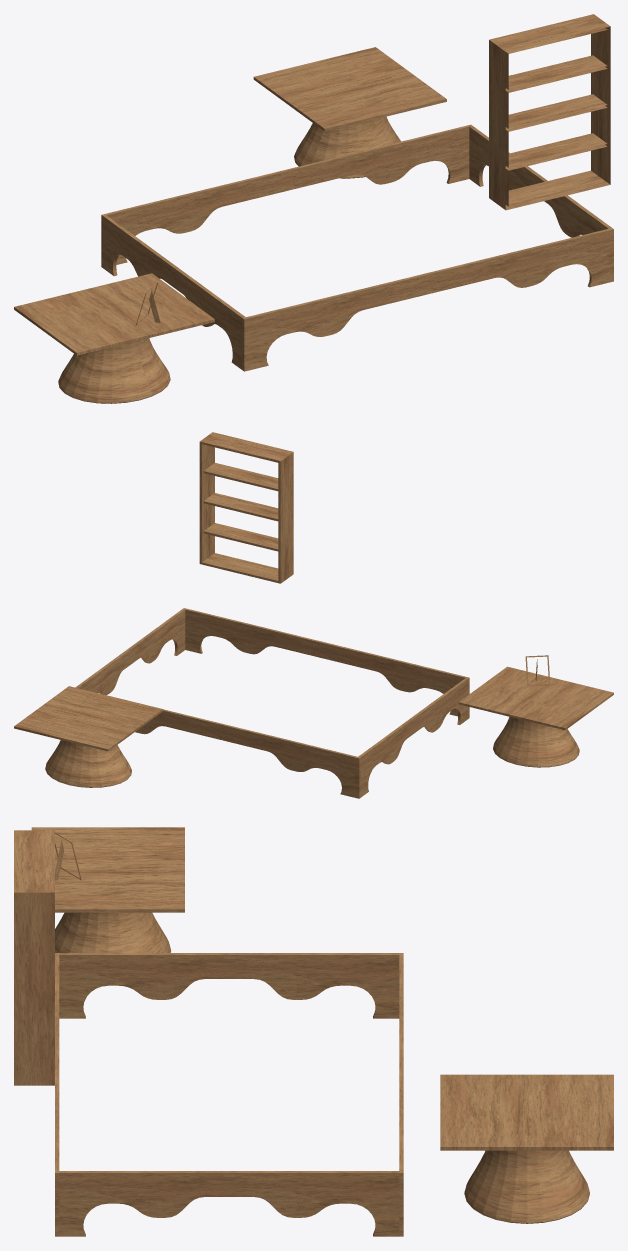
File: ROOM-BED.gltf
3 renders of one model, top to bottom at view 1: azimuth 30°, elevation 25°; view 2: azimuth 150°, elevation 25°; view 3: azimuth 270°, elevation 25°, orthographic. The views are drawn at different scales.
Parts seen in each view (by area): view 1: Material2.058; view 2: Material2.058; view 3: Material2.058.
Boxes of the visible parts, x1,y1,x2,y2 form: Material2.058: (14, 14, 613, 403); Material2.058: (14, 432, 613, 798); Material2.058: (14, 827, 613, 1236).
Bounding box in the file's own units: 156 × 74.05 × 121.
1 material, 1 textured.
